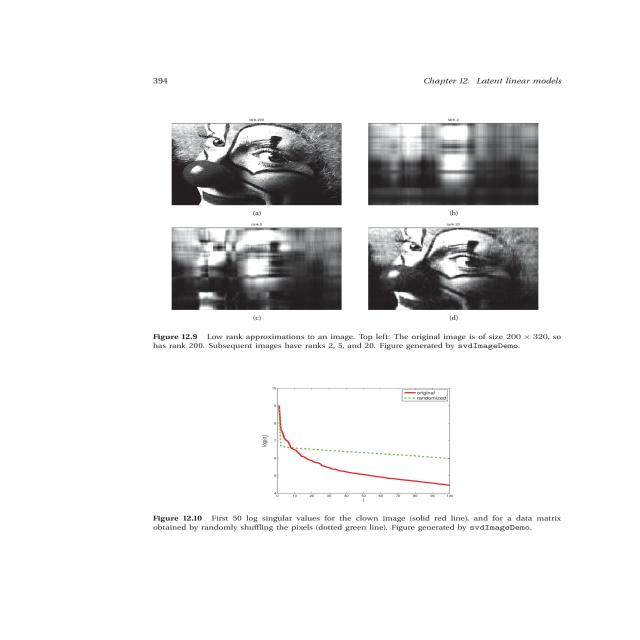diagram: (113, 110, 572, 544)
